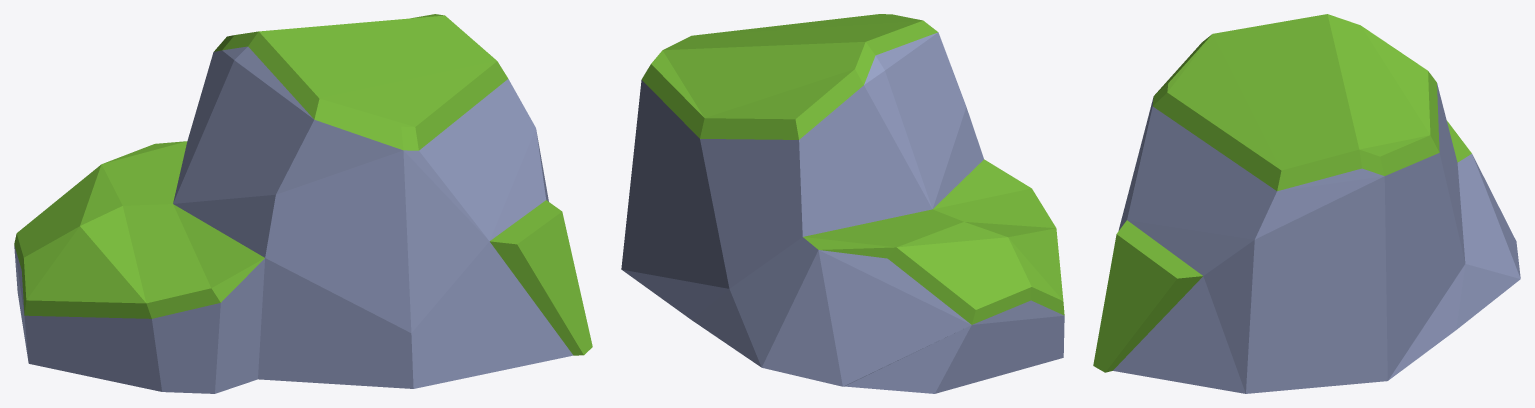
Rendered from Rock_8_1.fbx.
3 views of the same model, side by side, from view 1: azimuth 30°, elevation 25°; view 2: azimuth 150°, elevation 25°; view 3: azimuth 270°, elevation 25° (orthographic). The views are drawn at different scales.
Parts seen in each view (by area): view 1: Rock_8_1; view 2: Rock_8_1; view 3: Rock_8_1.
Boxes of the visible parts, left/top/right/bottom form: Rock_8_1: left=14, top=14, right=592, bottom=393; Rock_8_1: left=621, top=14, right=1064, bottom=393; Rock_8_1: left=1093, top=14, right=1520, bottom=393.
Bounding box in the file's own units: 2.85 × 1.59 × 2.34.
